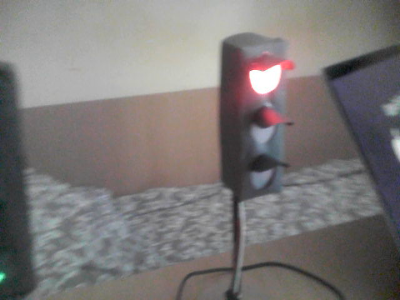trafficlight_red: (240, 42, 290, 201)
